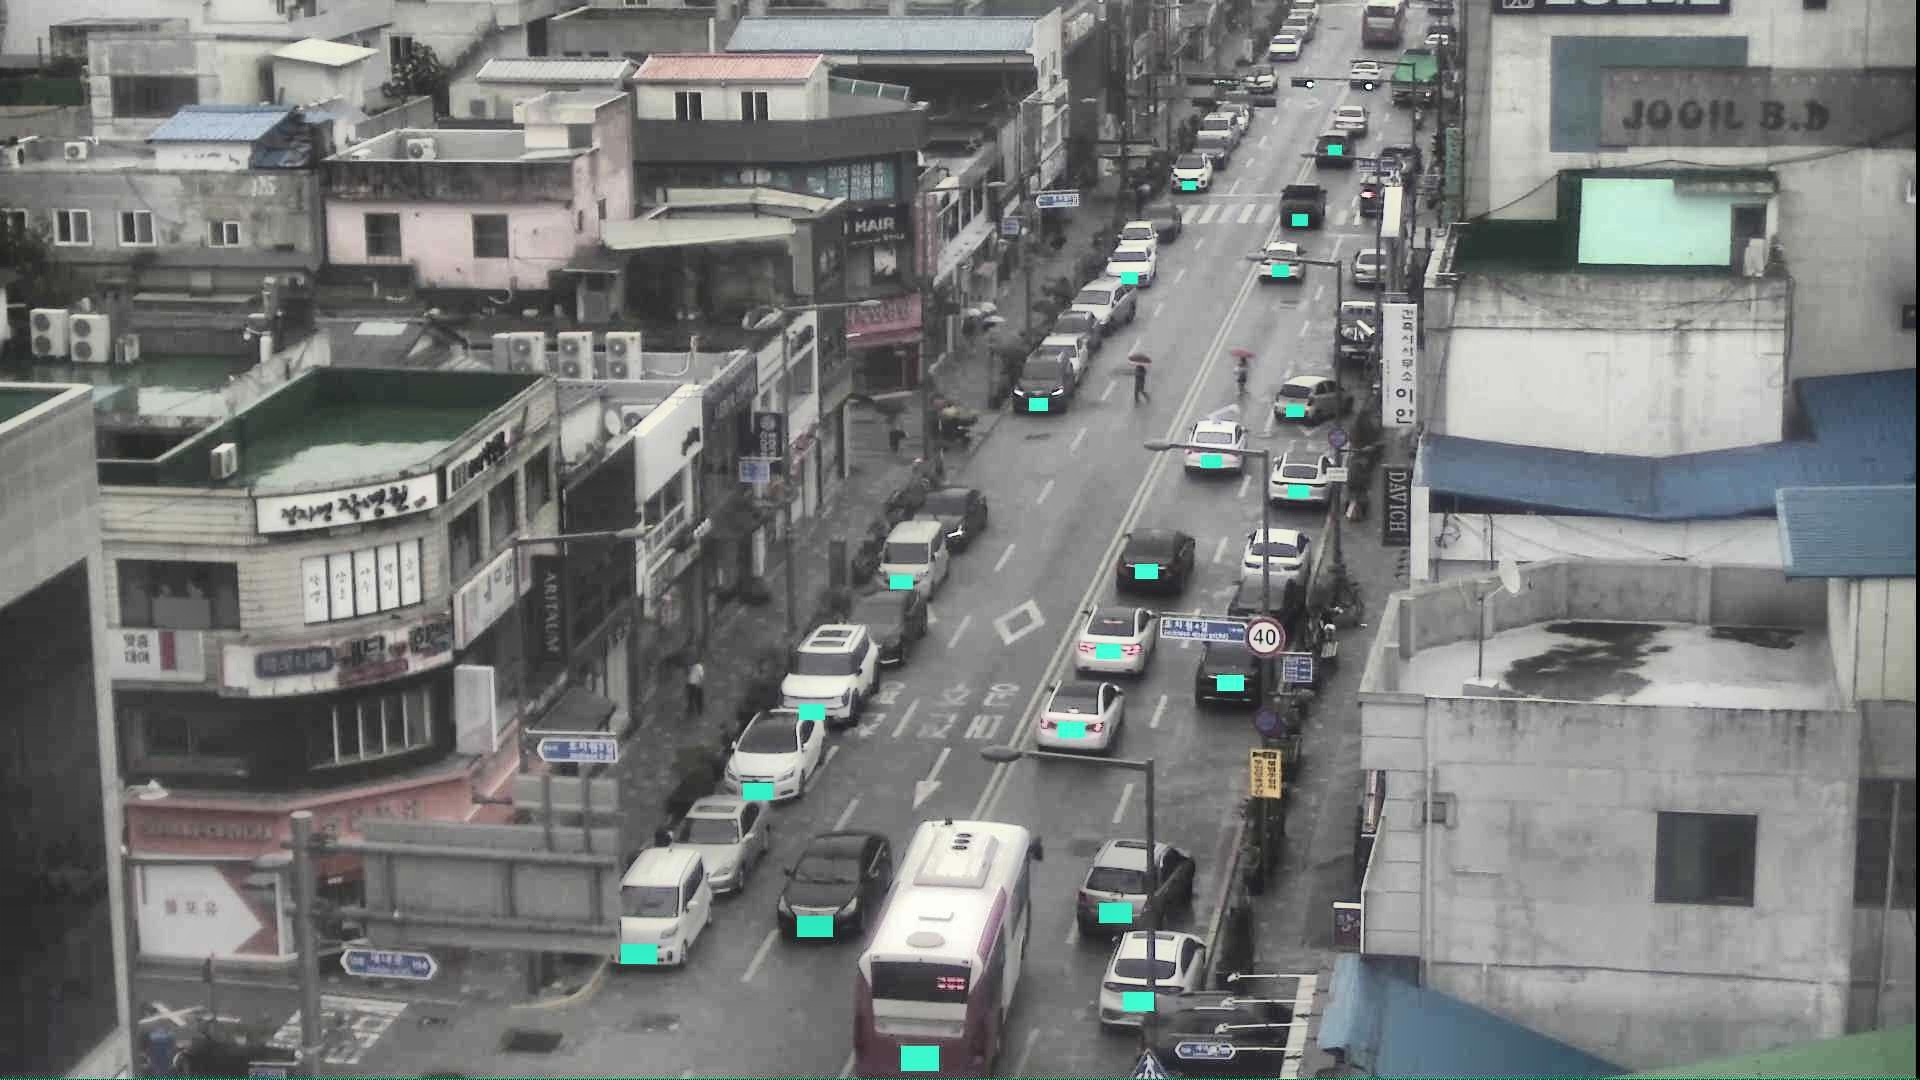um_jaywalk: (1124, 352, 1156, 406), (1228, 345, 1259, 400)
um_sidewalk: (669, 644, 709, 715), (876, 397, 909, 454), (984, 316, 1006, 360), (957, 310, 978, 356), (978, 303, 996, 328)
